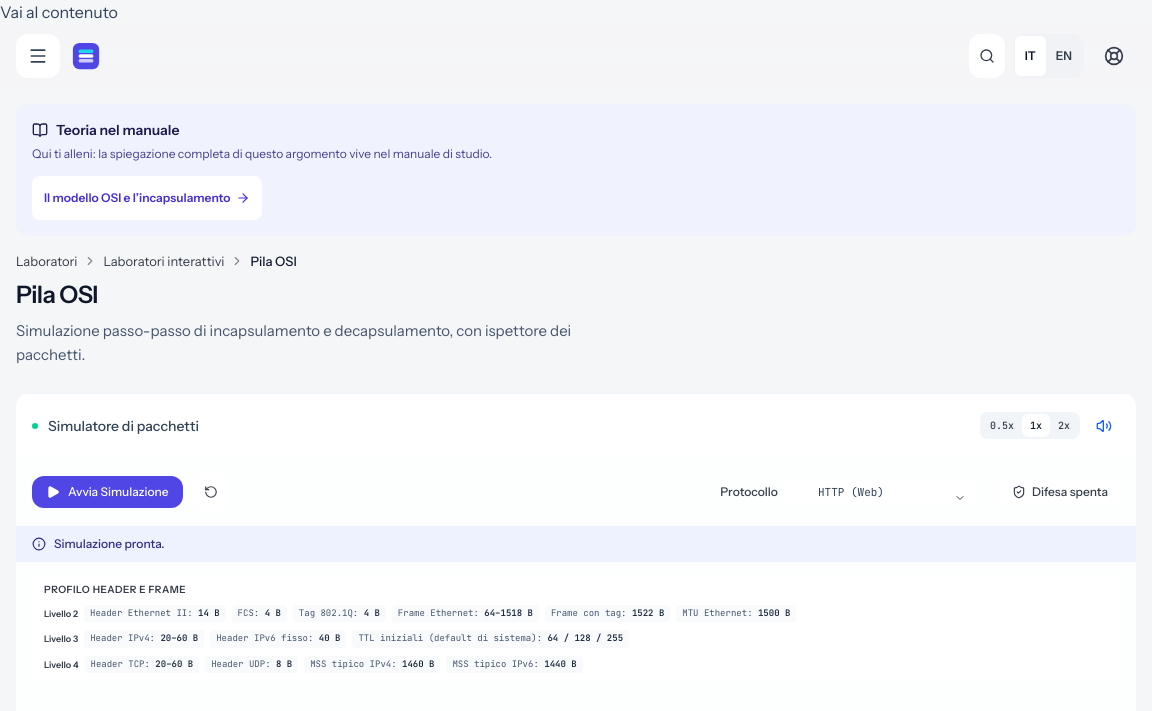
Scenario: App lazy loading states (UX-27) › loads the guide on demand and opens the bilingual dialog
The image size is (1152, 711).
Click the button named "Apri la guida". click: (1114, 56)
box: [1092, 34, 1136, 78]
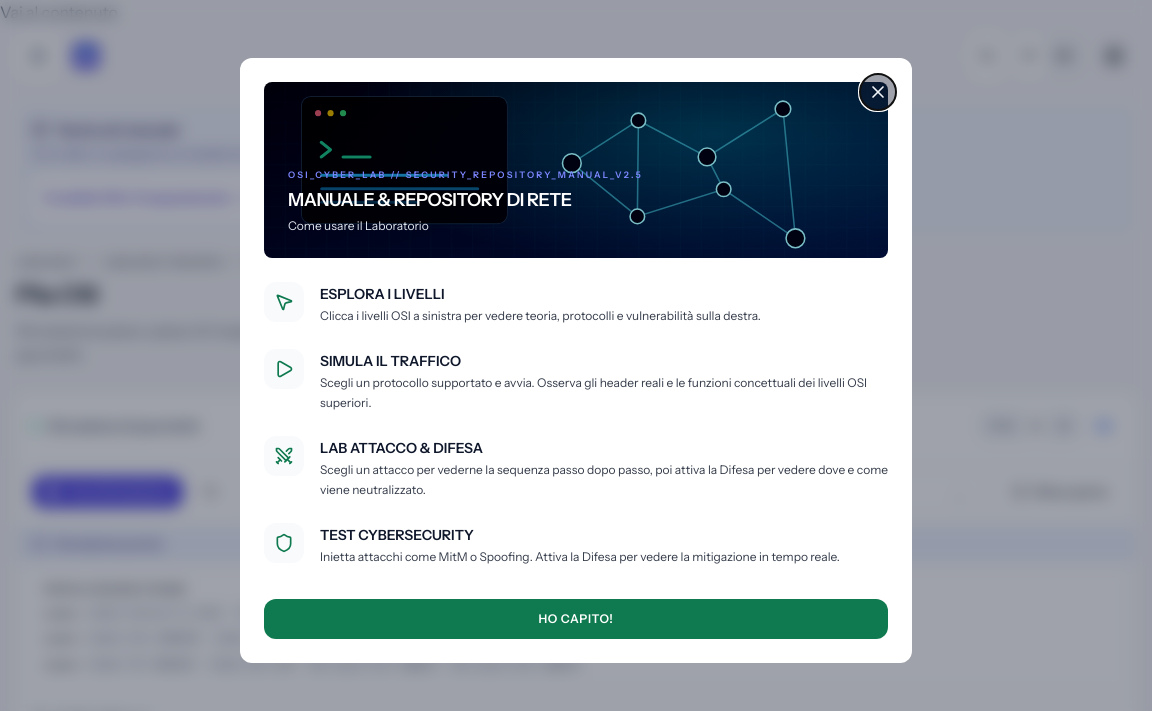
Expected: the dialog "Manuale & Repository di Rete" is shown, [240, 58, 912, 662]
